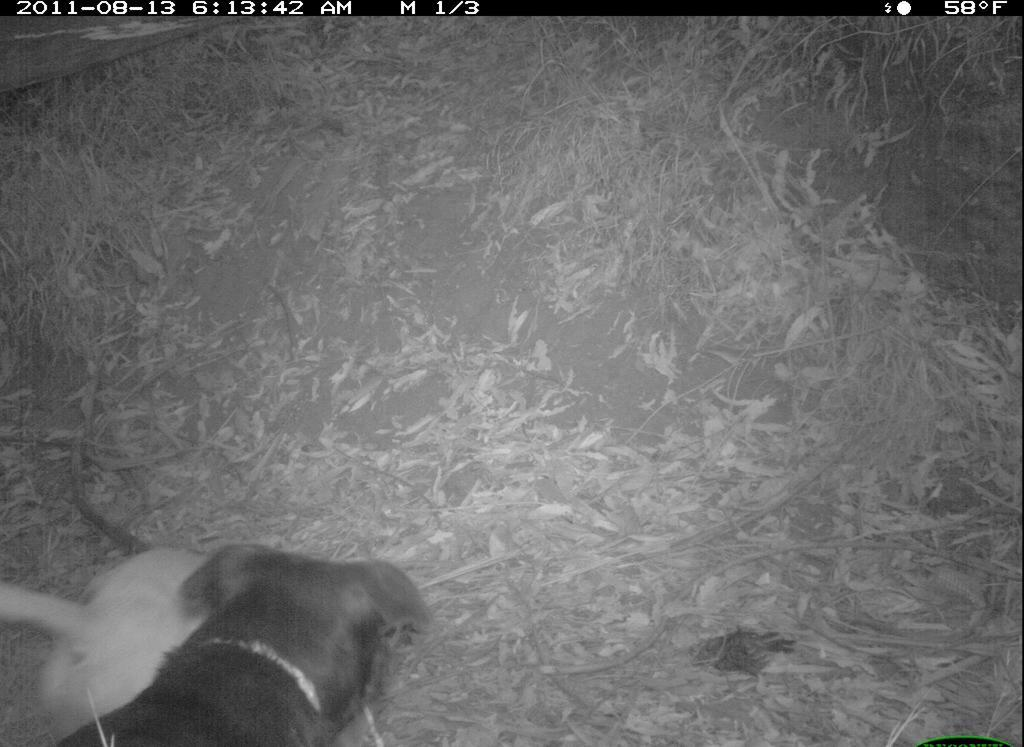dog: (57, 539, 440, 742), (8, 542, 235, 737)
